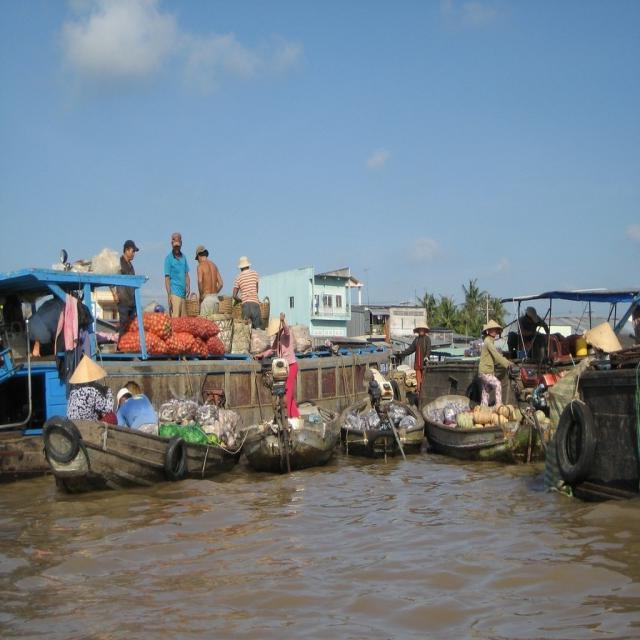boat: (56, 398, 262, 488), (414, 394, 533, 457), (344, 381, 436, 454), (264, 399, 330, 469)
